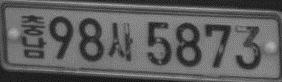3: (234, 24, 261, 70)
5: (146, 21, 172, 65)
7: (204, 23, 232, 68)
8: (175, 21, 202, 67), (78, 17, 104, 62)
9: (49, 15, 74, 60)
사: (107, 22, 133, 61)
충남_V: (20, 14, 46, 59)
